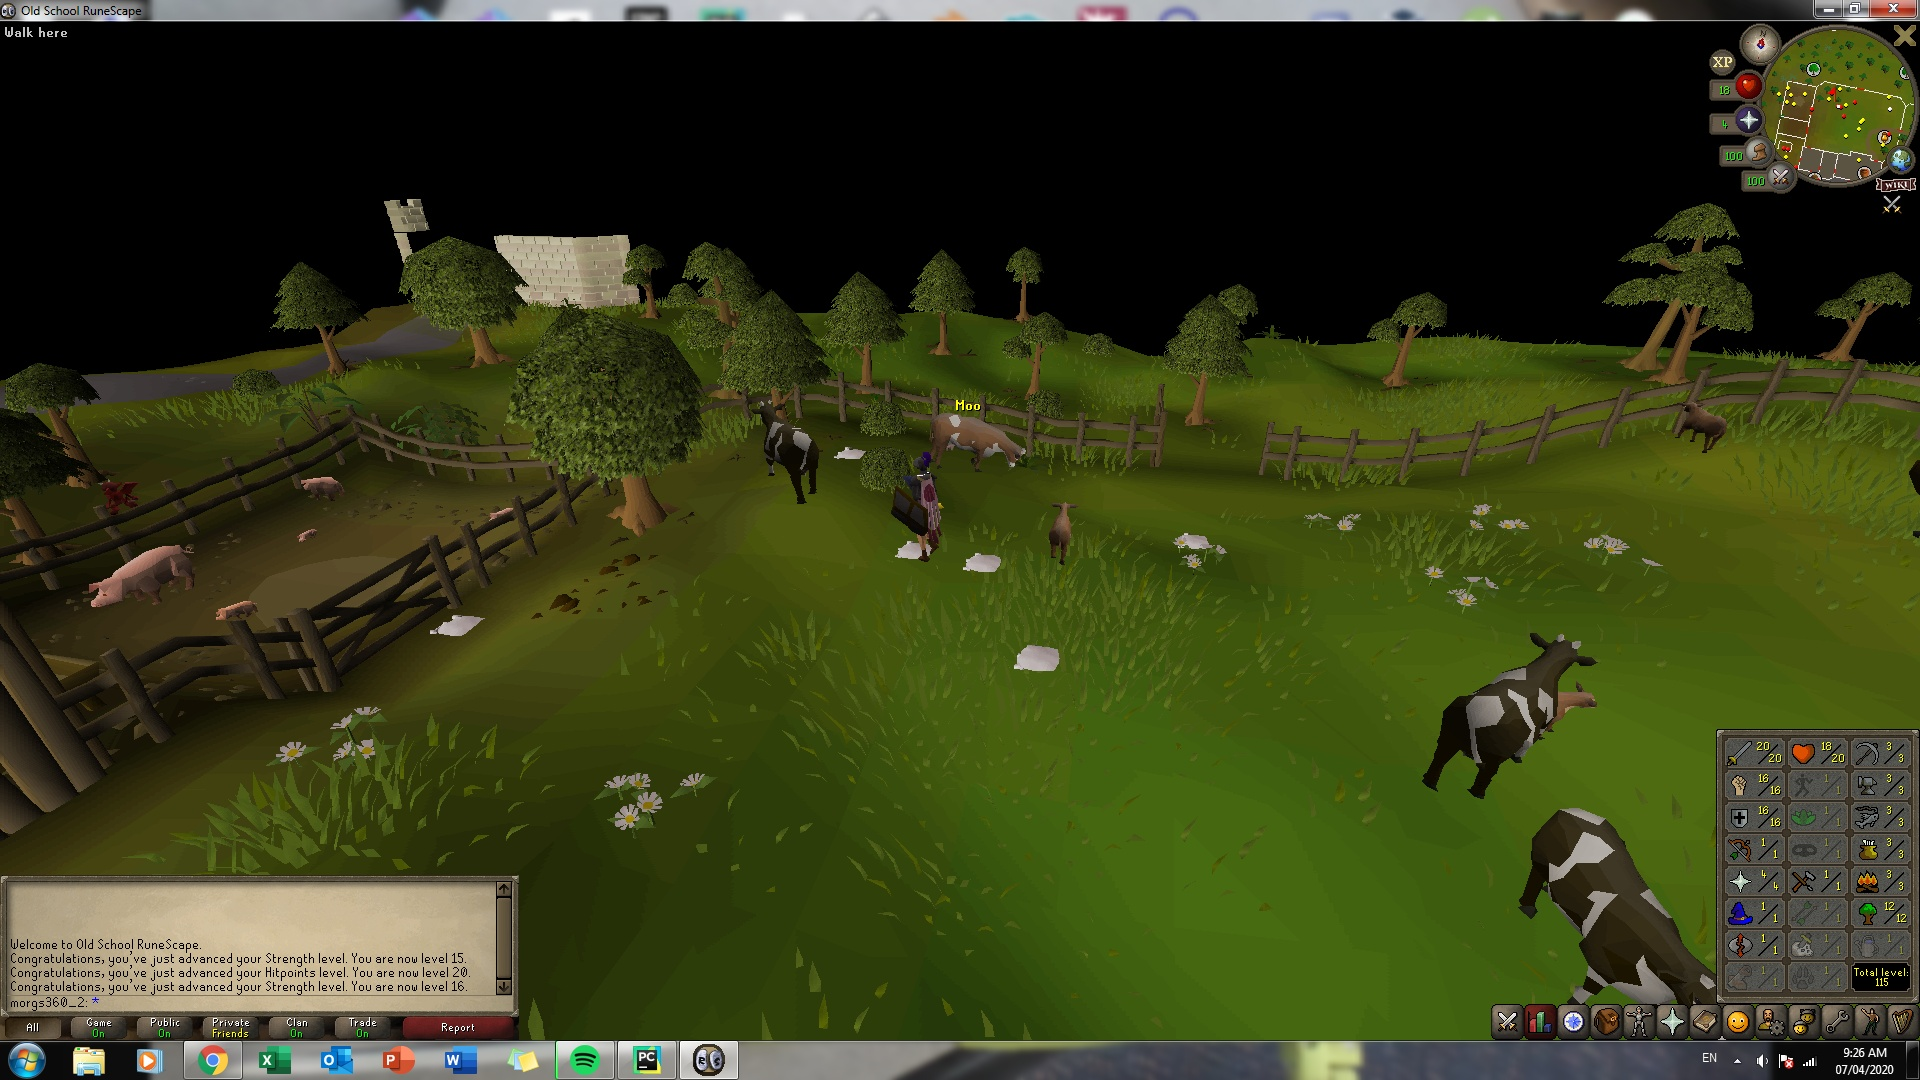cow: (1517, 806, 1714, 1005), (1429, 618, 1595, 801), (751, 397, 830, 506), (926, 409, 1034, 477), (1674, 392, 1727, 460), (1045, 497, 1076, 566), (1557, 680, 1596, 735)
player: (896, 447, 950, 563)
